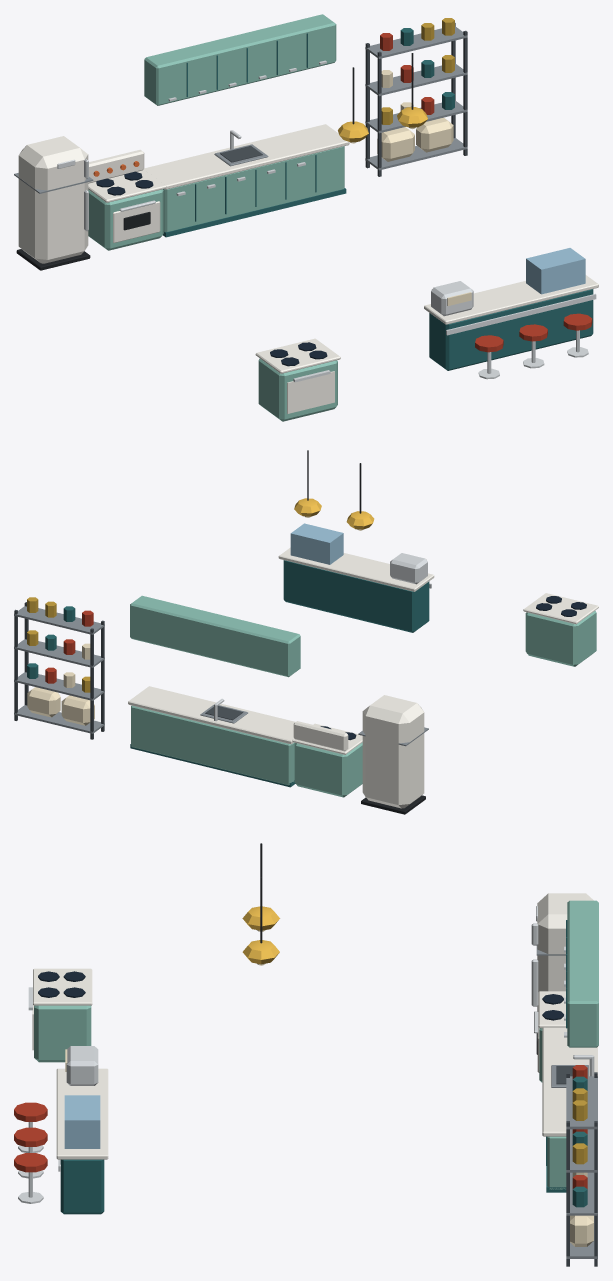
Rendered from Room_Kitchen_L2.fbx.
The picture shows the model from 3 angles, top to bottom: view 1: azimuth 30°, elevation 25°; view 2: azimuth 150°, elevation 25°; view 3: azimuth 270°, elevation 25°; orthographic projection. The views are drawn at different scales.
Parts seen in each view (by area): view 1: Decor, Counter, Shelves, Fridge, Stove, ServeCounter1, Range1, DecorGlass, Decor_; view 2: Decor, Counter, Shelves, Fridge, ServeCounter1, Stove, Range1, DecorGlass, Decor_; view 3: Decor, Shelves, Counter, Fridge, Range1, ServeCounter1, DecorGlass, Decor_, Stove.
Part boxes in pixels (x1,y1,x2,y2): Decor: (144,14,598,413); Counter: (144,124,349,237); Shelves: (365,18,467,176); Fridge: (14,136,93,270); Stove: (88,149,166,250); ServeCounter1: (429,289,593,370); Range1: (258,358,337,421); DecorGlass: (526,248,585,294); Decor_: (338,53,427,142); Decor: (130,547,598,677); Counter: (128,686,295,787); Shelves: (14,597,104,739); Fridge: (358,695,428,814); ServeCounter1: (283,560,429,632); Stove: (292,721,362,797); Range1: (525,611,596,666); DecorGlass: (290,523,343,564); Decor_: (294,450,374,529); Decor: (14,900,598,1203); Shelves: (566,1065,597,1266); Counter: (542,1027,597,1192); Fridge: (531,893,593,1011); Range1: (34,1005,91,1062); ServeCounter1: (60,1159,104,1214); DecorGlass: (64,1095,100,1148); Decor_: (242,843,279,964); Stove: (534,991,565,1082).
Size of the model in its own units: 29.81 by 15.76 by 29.45.
